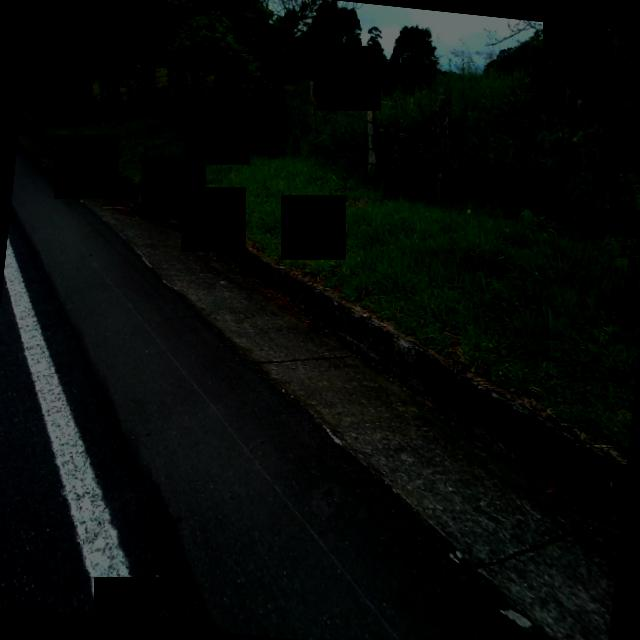DITCH: (0, 118, 640, 640), (0, 126, 640, 640), (0, 147, 640, 640)
